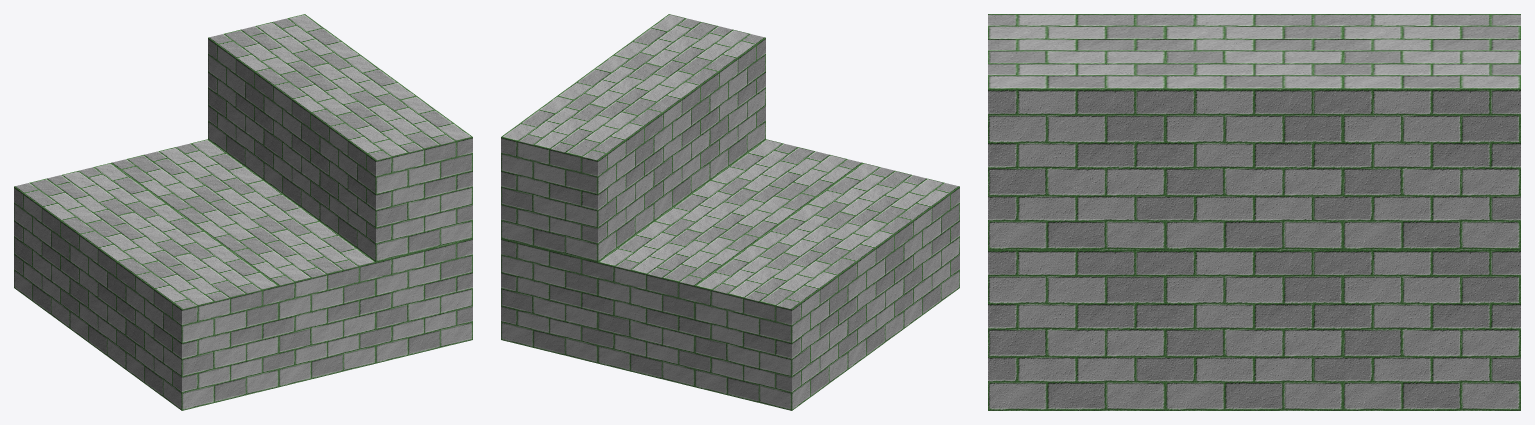
The model's file is L-Platform.fbx.
The picture shows the model from 3 angles, left to right: view 1: azimuth 30°, elevation 25°; view 2: azimuth 150°, elevation 25°; view 3: azimuth 270°, elevation 25°; orthographic projection. The views are drawn at different scales.
Visible parts, largest first — view 1: Cube.001; view 2: Cube.001; view 3: Cube.001.
Part boxes in pixels (box(x1,y1,x2,y2)): Cube.001: box(14, 14, 472, 410); Cube.001: box(501, 14, 959, 410); Cube.001: box(988, 14, 1520, 410).
Size of the model in its own units: 600 by 400 by 600.
